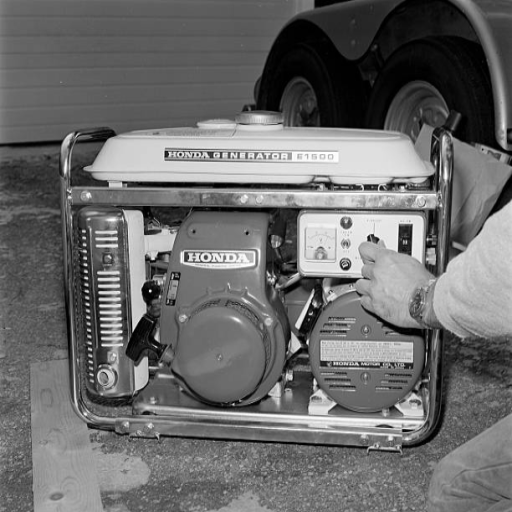portable_generator: (59, 126, 455, 452)
